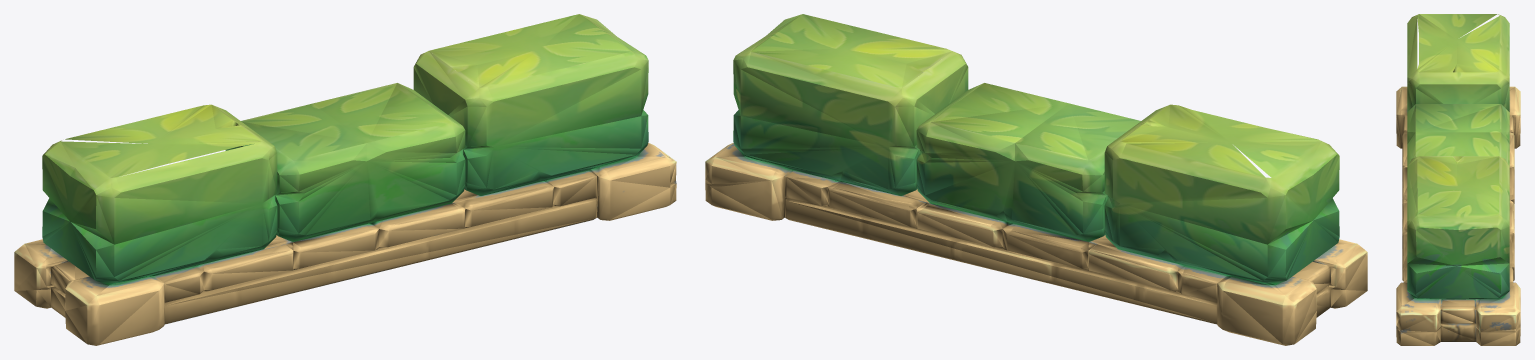
Rendered from prop.glb.
3 views of the same model, side by side, from view 1: azimuth 30°, elevation 25°; view 2: azimuth 150°, elevation 25°; view 3: azimuth 270°, elevation 25° (orthographic). The views are drawn at different scales.
Visible parts, largest first — view 1: tripo_node_c348c8b3-3ba0-4430-8930-594eba93d391; view 2: tripo_node_c348c8b3-3ba0-4430-8930-594eba93d391; view 3: tripo_node_c348c8b3-3ba0-4430-8930-594eba93d391.
Boxes of the visible parts, <box> form: tripo_node_c348c8b3-3ba0-4430-8930-594eba93d391: <box>14,14,676,345</box>; tripo_node_c348c8b3-3ba0-4430-8930-594eba93d391: <box>705,14,1367,345</box>; tripo_node_c348c8b3-3ba0-4430-8930-594eba93d391: <box>1396,14,1520,345</box>.
Bounding box in the file's own units: 32 × 8.01 × 7.4.
1 material, 1 textured.
